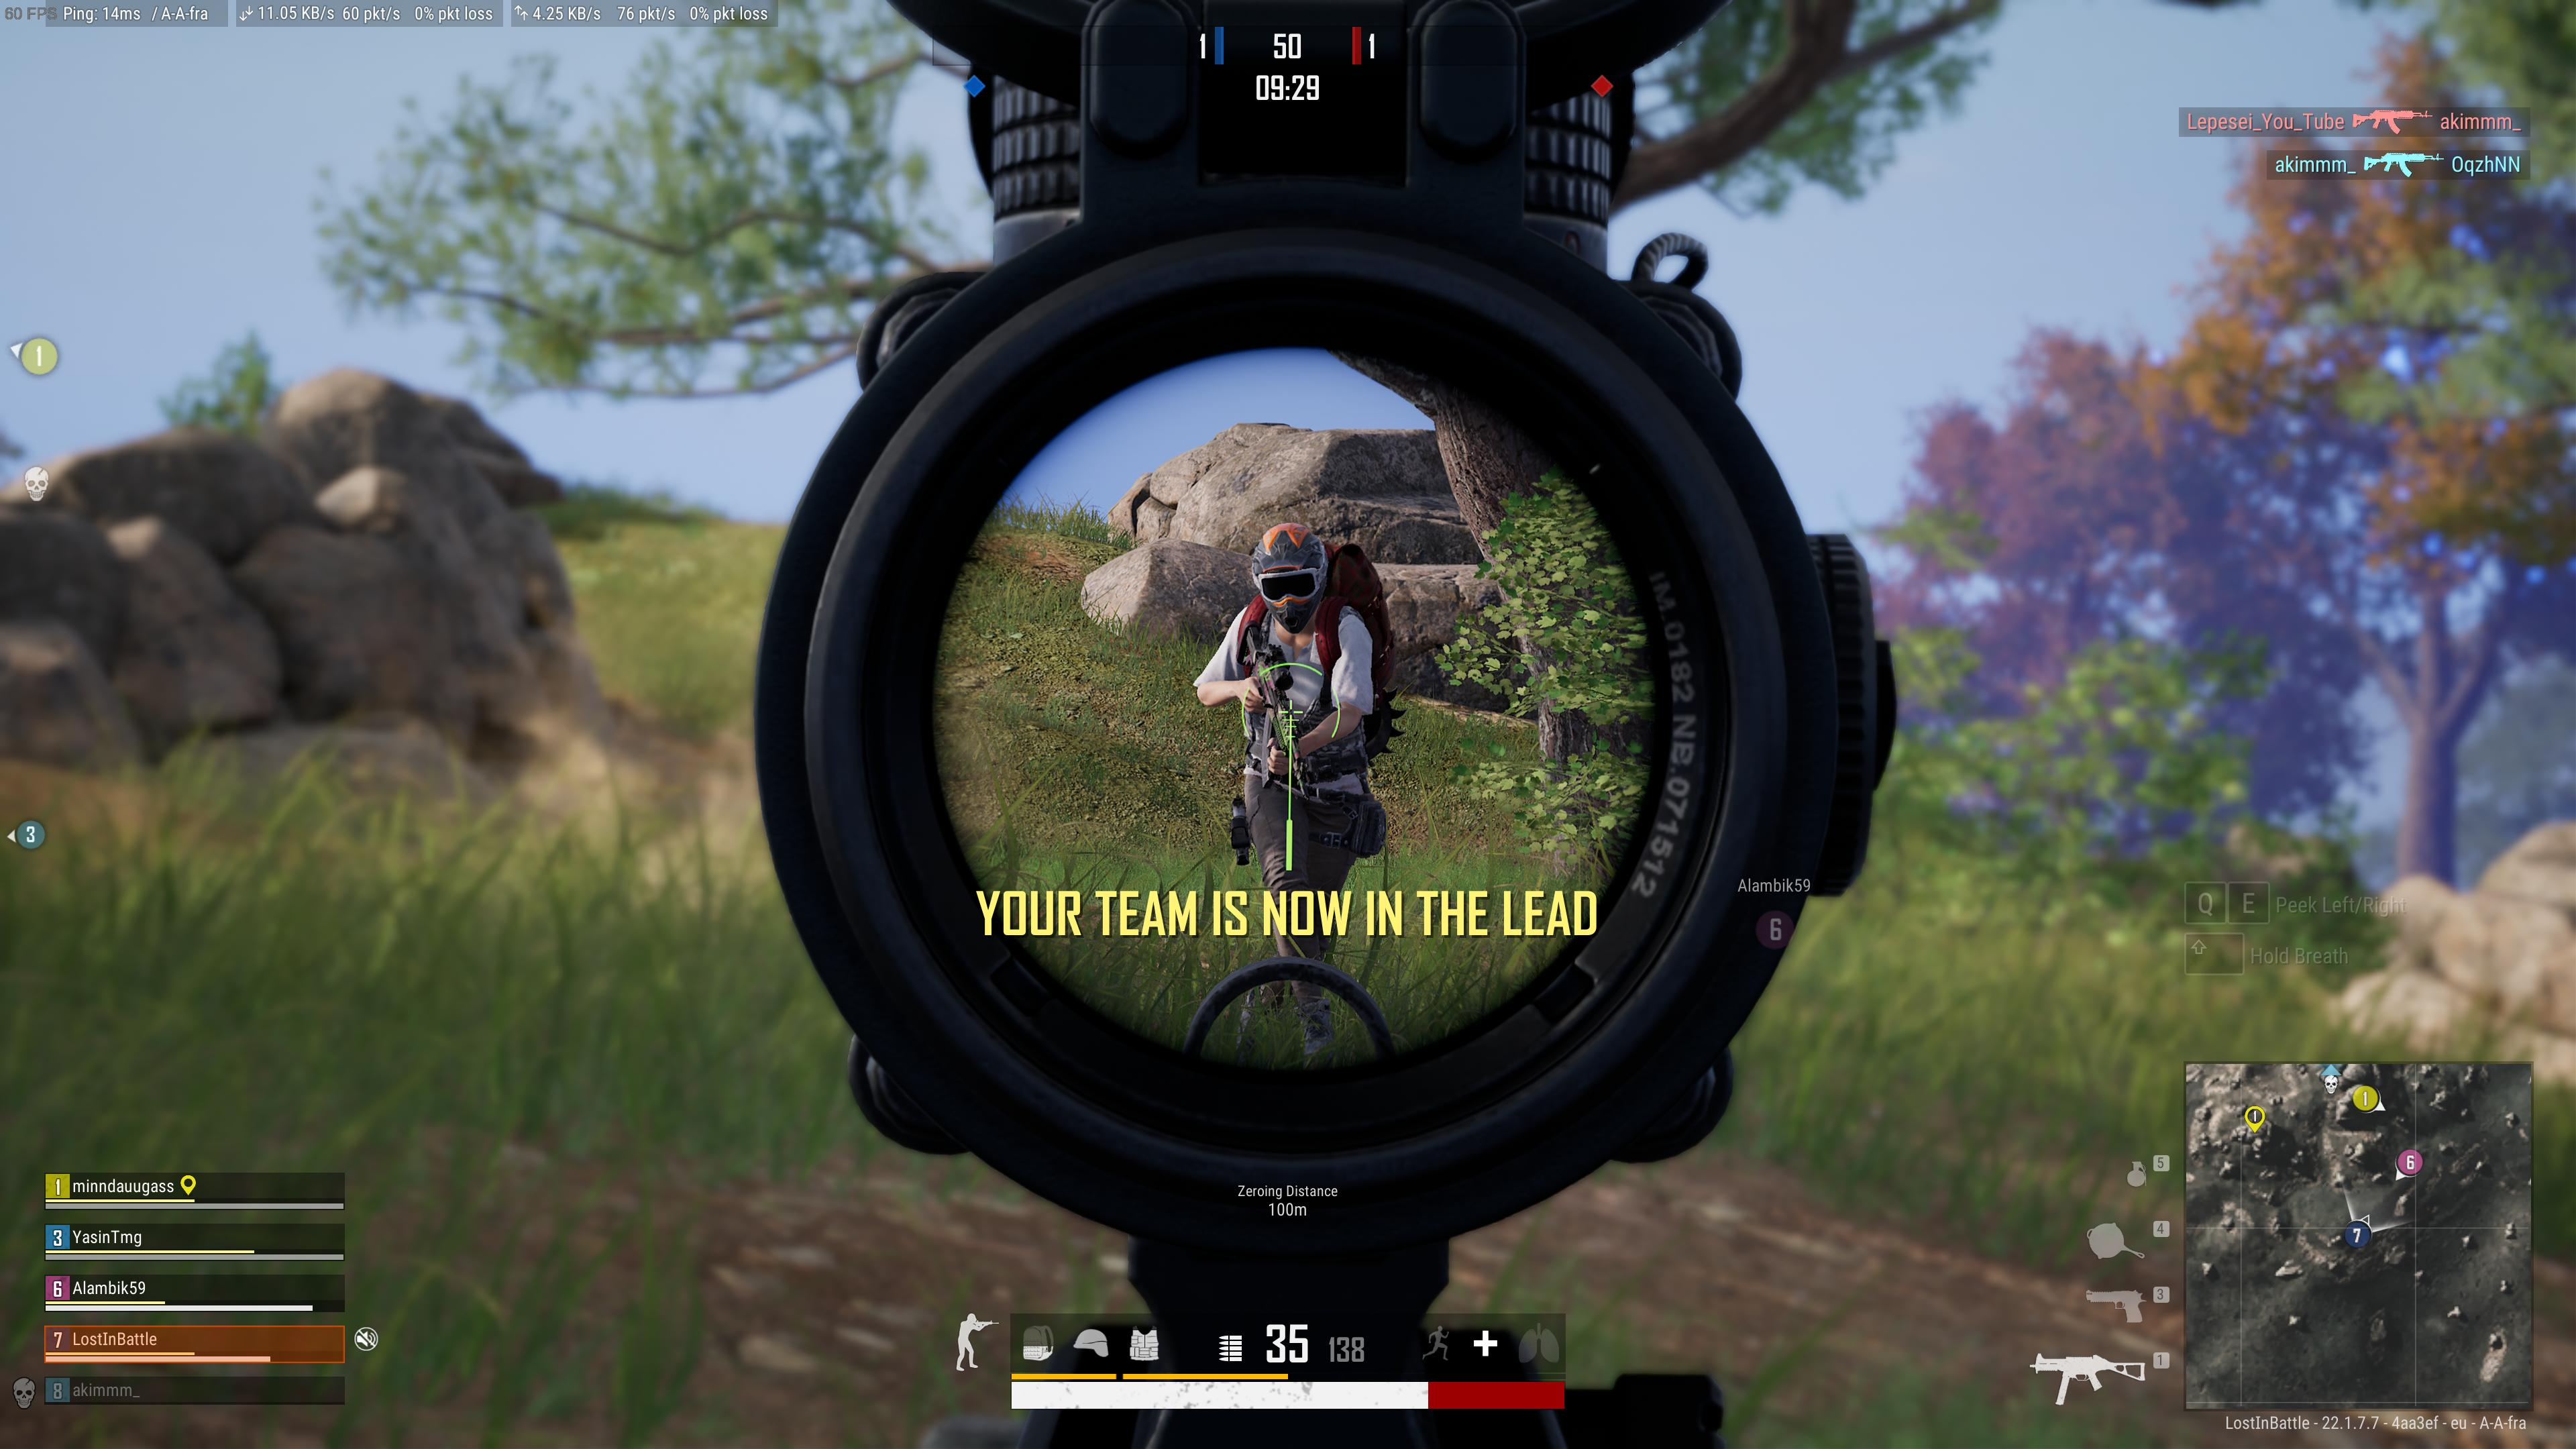enemy: (1189, 518, 1410, 1058)
enemy_head: (1249, 520, 1332, 633)
